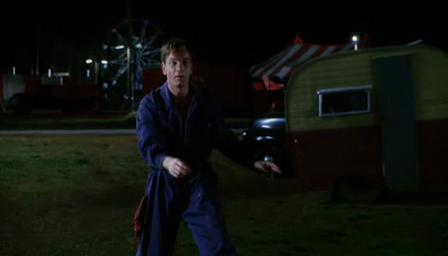face: (165, 51, 192, 88)
mls: (1, 1, 448, 256)
person: (135, 43, 283, 256)
